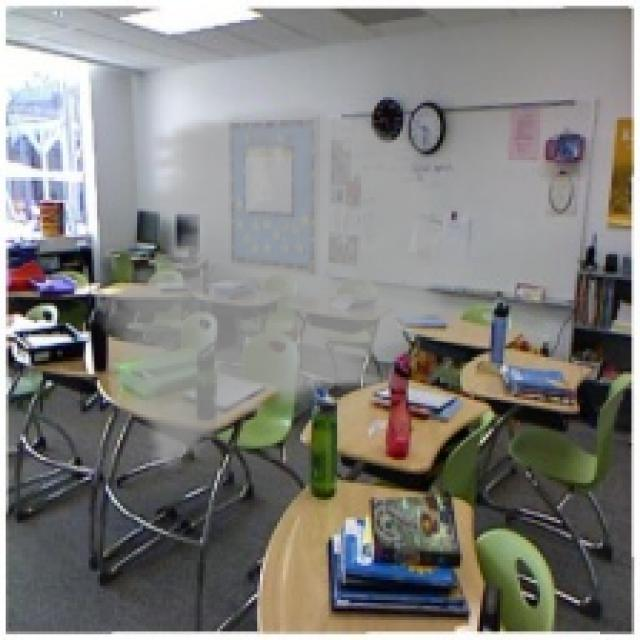smoke: (83, 100, 491, 471)
